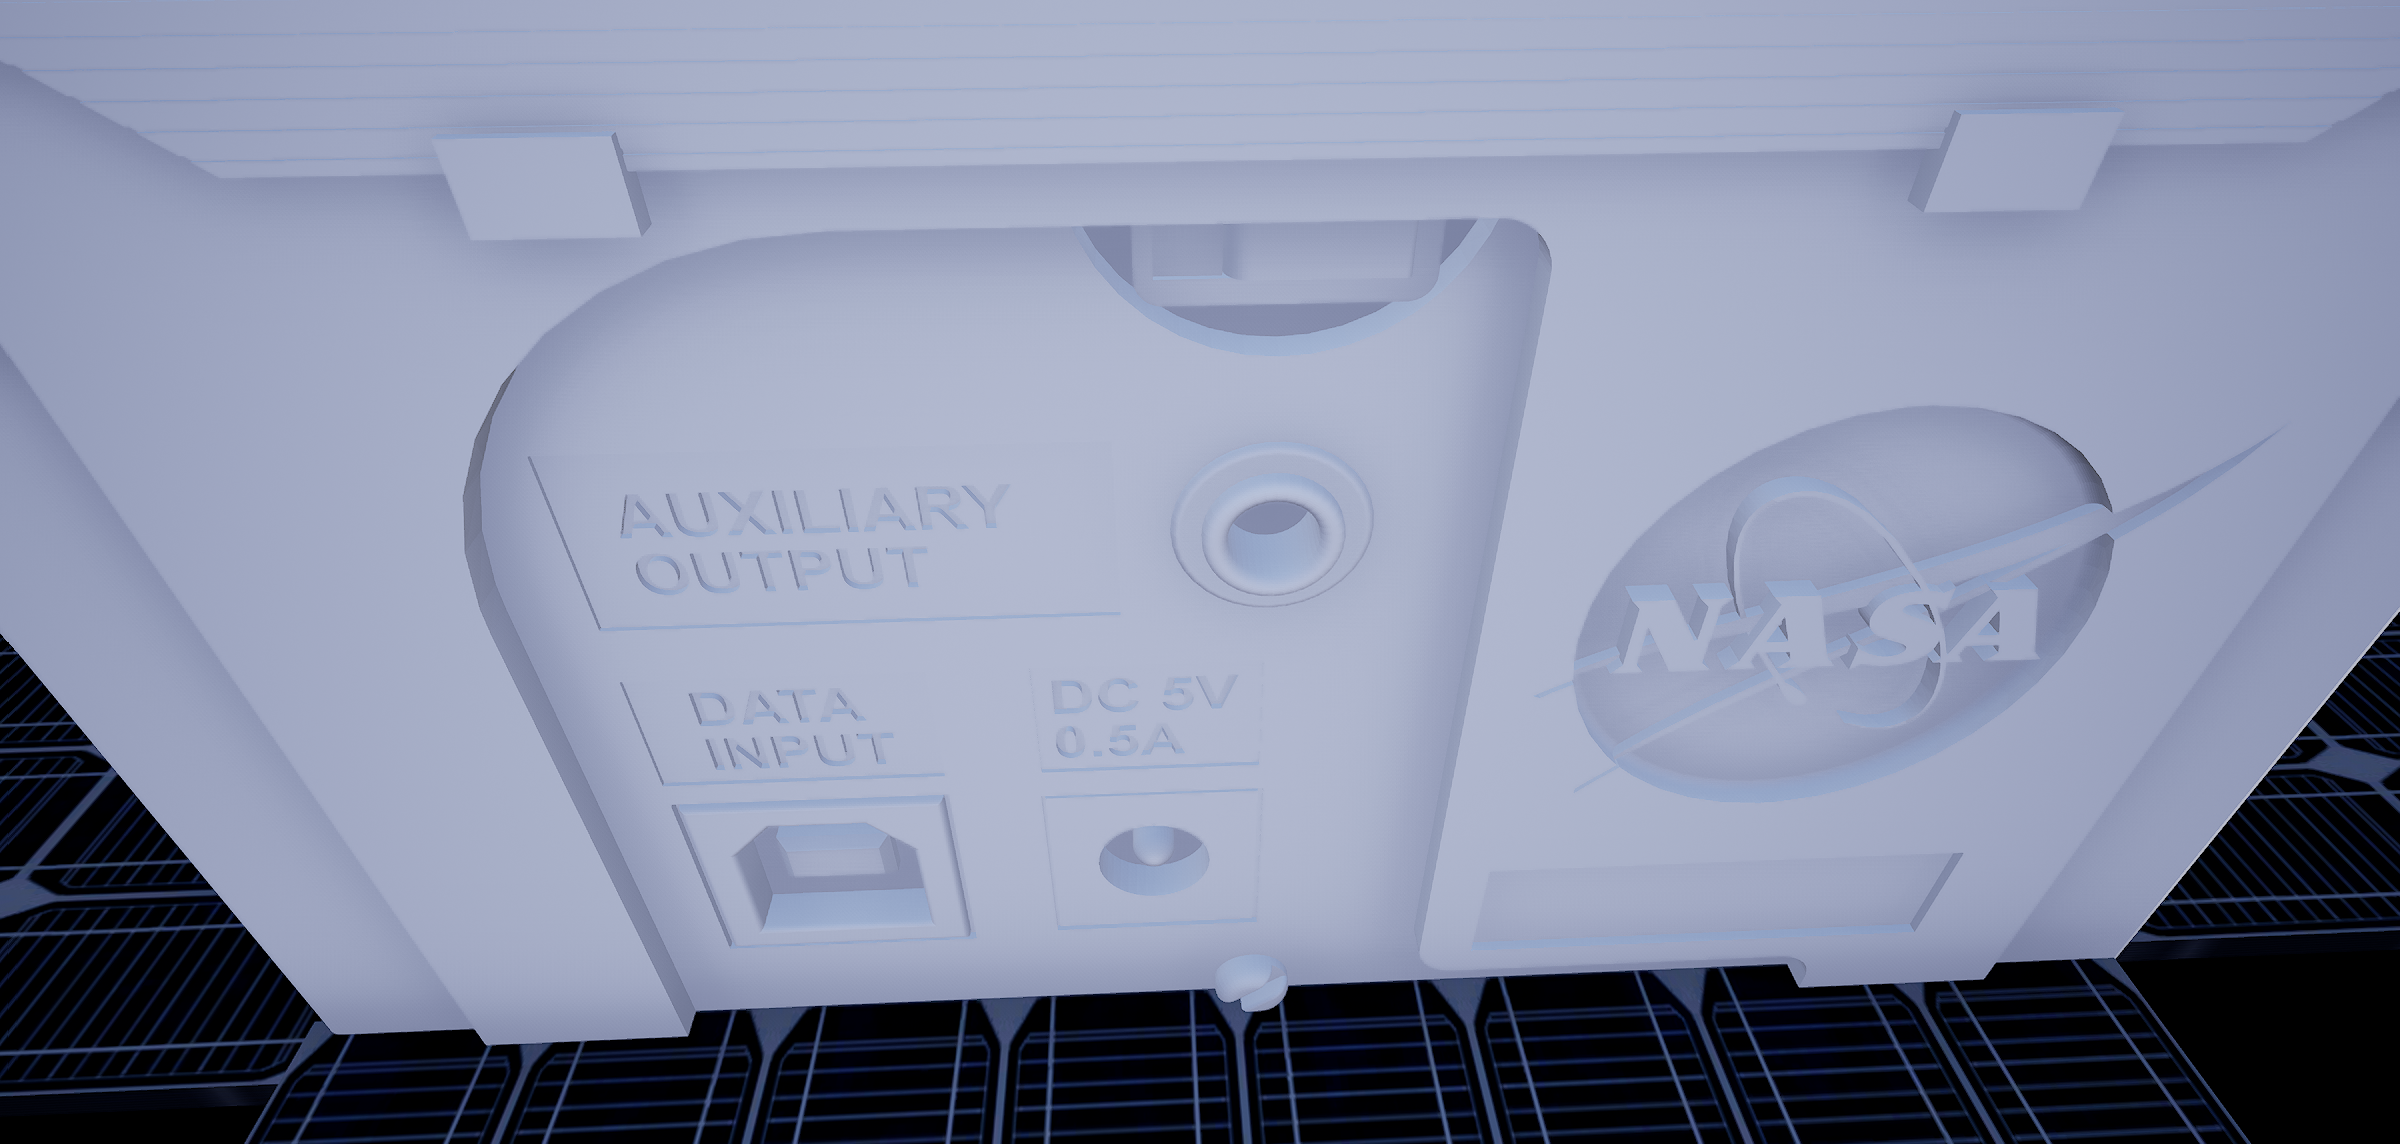aux: (1159, 441, 1378, 623)
dc: (1090, 813, 1223, 910)
usb: (721, 816, 941, 940)
